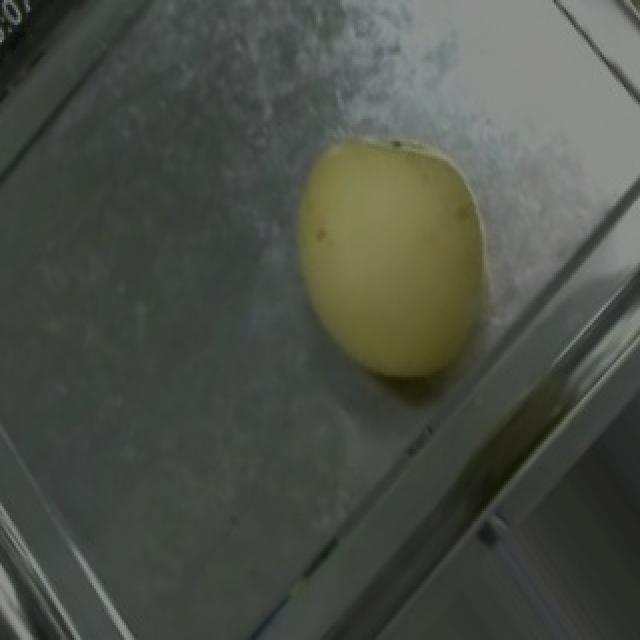Fruit: (246, 94, 536, 417)
